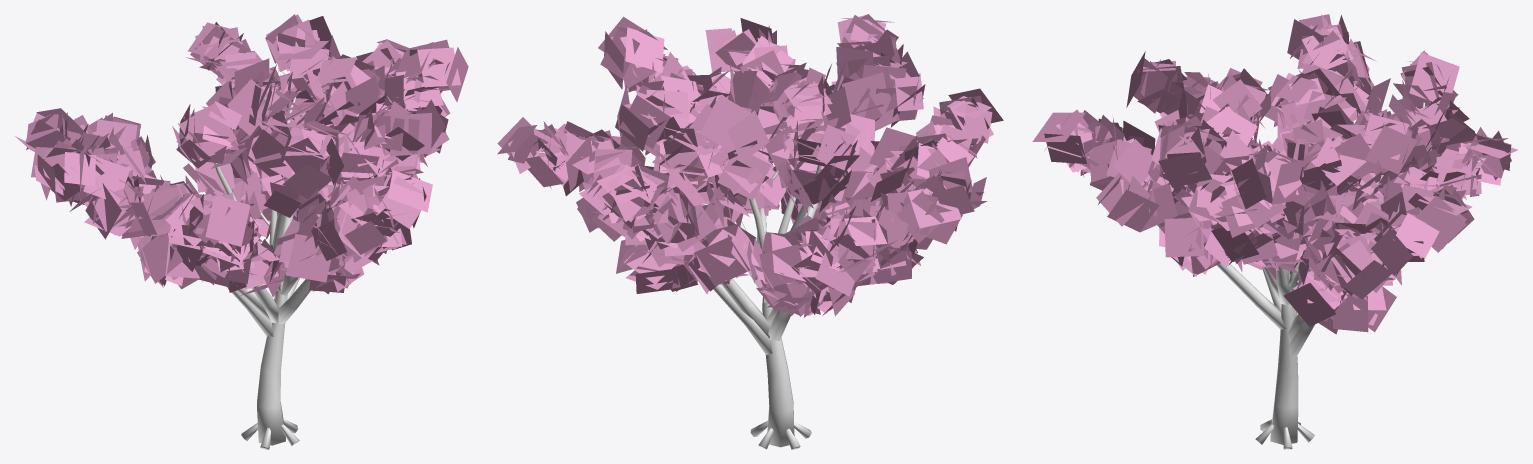
The model's file is SM_Sakura_Hero_LOD1.fbx.
3 views of the same model, side by side, from view 1: azimuth 30°, elevation 25°; view 2: azimuth 150°, elevation 25°; view 3: azimuth 270°, elevation 25° (orthographic).
Visible parts, largest first — view 1: SM_Sakura_Hero_LOD1; view 2: SM_Sakura_Hero_LOD1; view 3: SM_Sakura_Hero_LOD1.
Part boxes in pixels (x1,y1,x2,y2): SM_Sakura_Hero_LOD1: [15, 14, 468, 449]; SM_Sakura_Hero_LOD1: [497, 14, 1003, 449]; SM_Sakura_Hero_LOD1: [1032, 14, 1517, 449].
Size of what is drawn, in the model's own units: 9.65 by 9.35 by 7.74.
